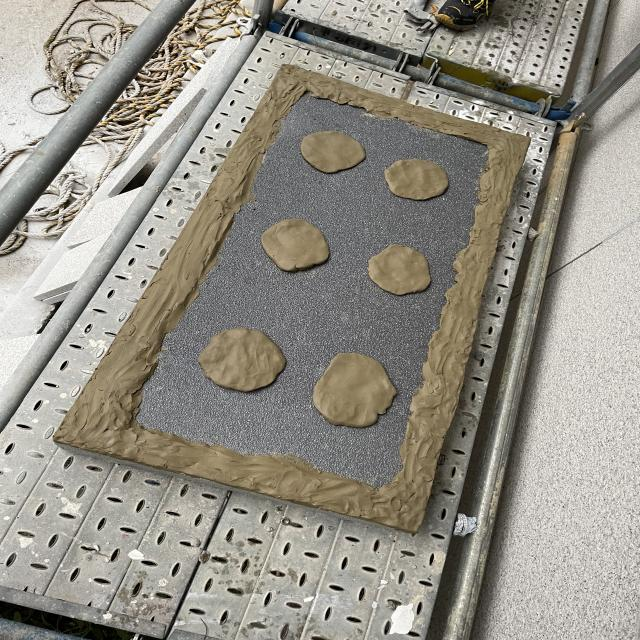dab: (312, 353, 397, 427), (198, 328, 286, 392), (261, 219, 329, 272), (368, 244, 430, 295), (300, 131, 365, 173), (384, 159, 448, 200)
insulation: (52, 64, 531, 534)
